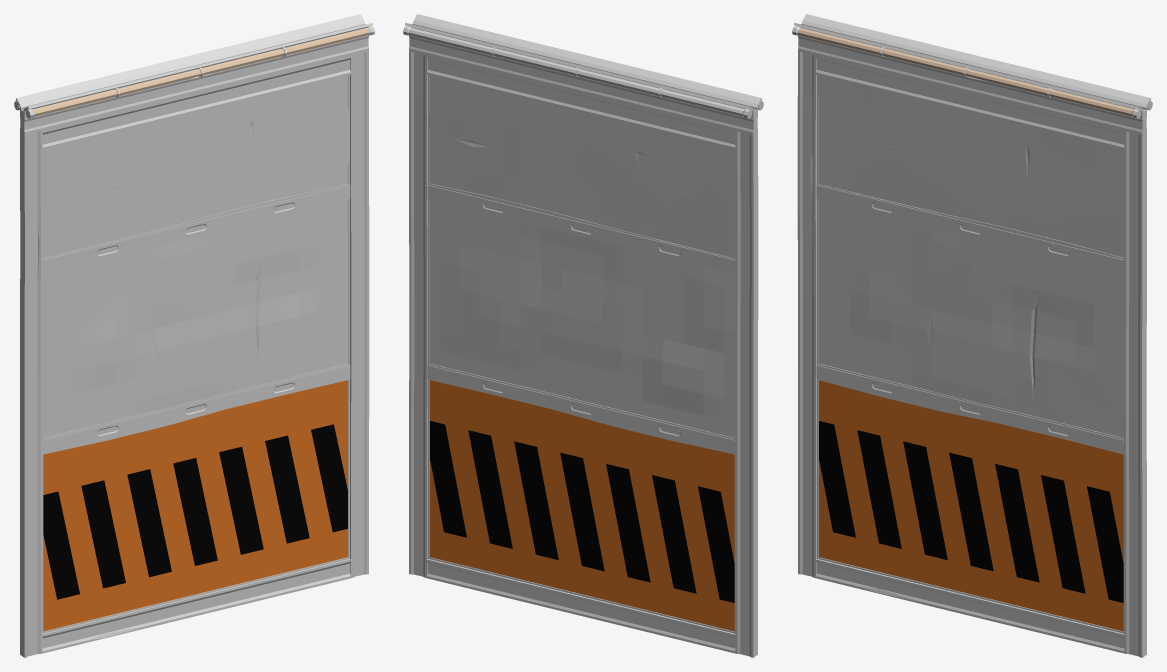
The model's file is SM_Wall_04.glb.
3 views of the same model, side by side, from view 1: azimuth 30°, elevation 25°; view 2: azimuth 150°, elevation 25°; view 3: azimuth 330°, elevation 25° (orthographic).
Visible parts, largest first — view 1: SM_Wall_04; view 2: SM_Wall_04; view 3: SM_Wall_04.
Boxes of the visible parts, x1,y1,x2,y2 form: SM_Wall_04: (14,14,374,657); SM_Wall_04: (403,14,763,657); SM_Wall_04: (792,14,1152,657).
Size of the model in its own units: 2 by 3.07 by 0.166.
